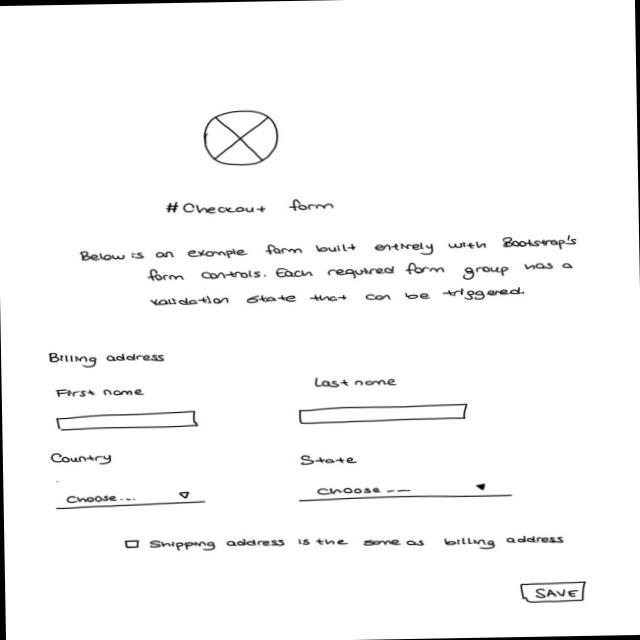button: (519, 580, 586, 602)
checkbox: (121, 530, 566, 555)
image: (202, 108, 280, 166)
input: (296, 402, 468, 426), (54, 409, 198, 431)
label: (162, 198, 334, 215), (46, 349, 166, 369), (311, 374, 402, 389), (53, 387, 147, 398), (50, 451, 114, 466), (294, 452, 358, 467)
select: (298, 481, 512, 502), (55, 488, 206, 509)
textbox: (78, 233, 580, 308)
